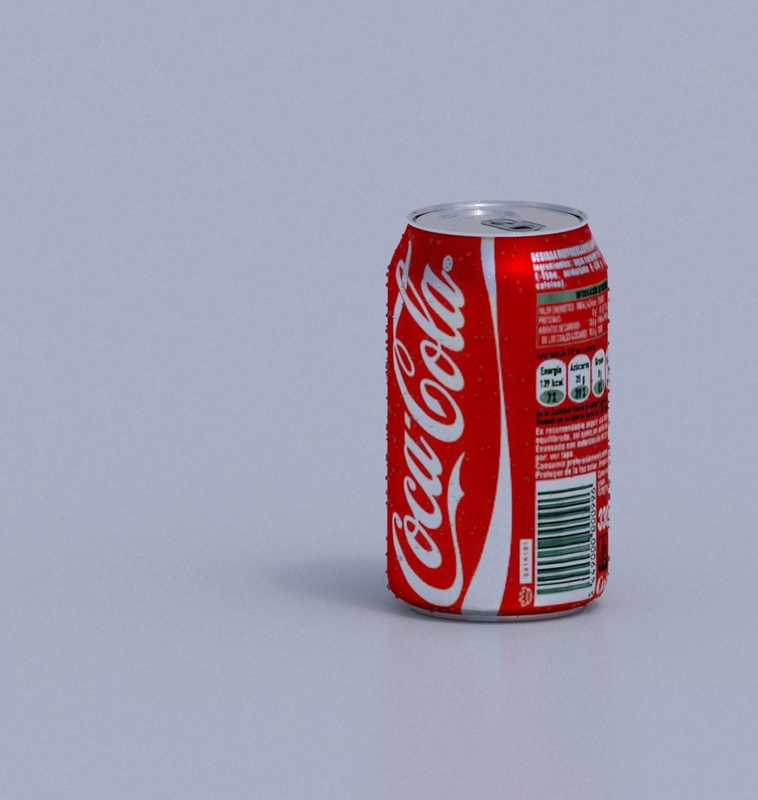coke: (382, 253, 477, 615)
